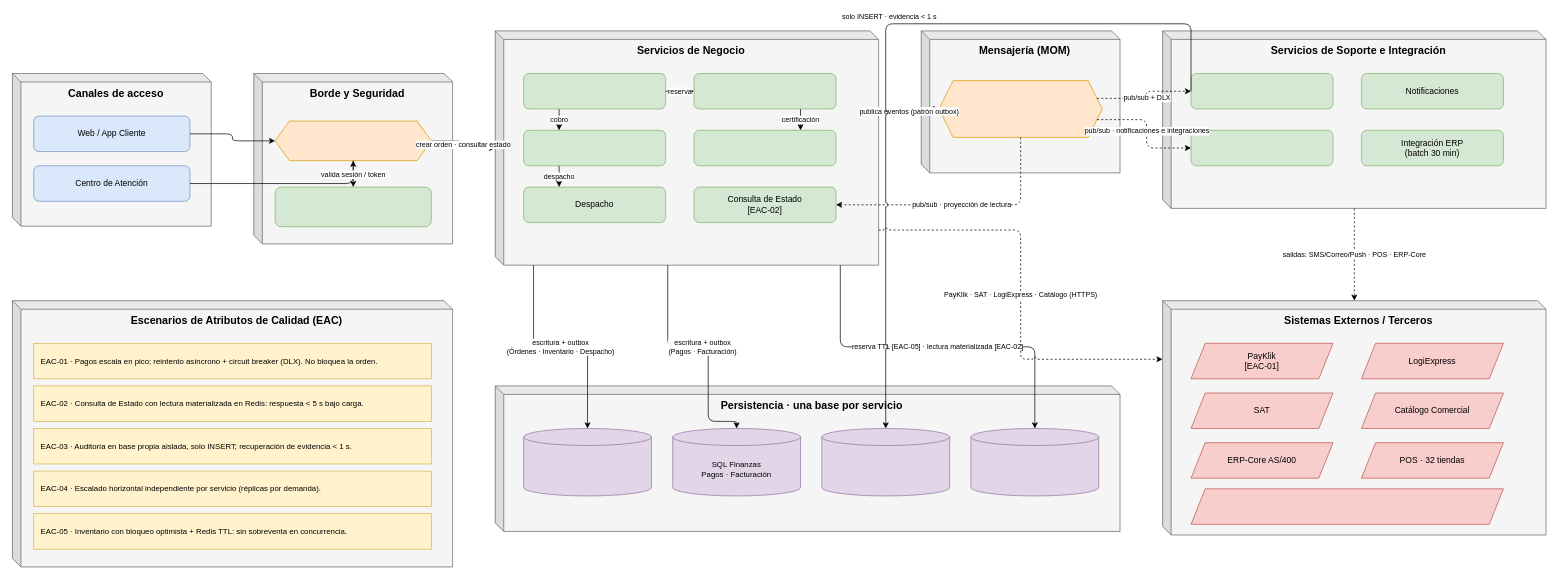
Some shapes in this 1558 by 579 pixel diagram are drawn without their labels. Here are the shapes that lost their labels. From the top down, the centre of each, then its label:
At (x=594, y=91): "Órdenes".
At (x=764, y=91): "Inventario [EAC-05]".
At (x=1020, y=108): "RabbitMQ pub/sub · cola de reintento + DLX".
At (x=1261, y=91): "Auditoría [EAC-03]".
At (x=352, y=140): "API Gateway".
At (x=594, y=148): "Pagos (escalable) [EAC-01]".
At (x=764, y=148): "Facturación".
At (x=1261, y=148): "Integración POS".
At (x=352, y=206): "Auth".
At (x=587, y=462): "SQL Operacional Órdenes · Inventario · Despacho [EAC-05]".
At (x=885, y=462): "SQL Auditoría base propia · solo INSERT [EAC-03]".
At (x=1034, y=462): "Redis lectura materializada · TTL [EAC-02 / EAC-05]".
At (x=1346, y=506): "Proveedor SMS · Correo · Push".
